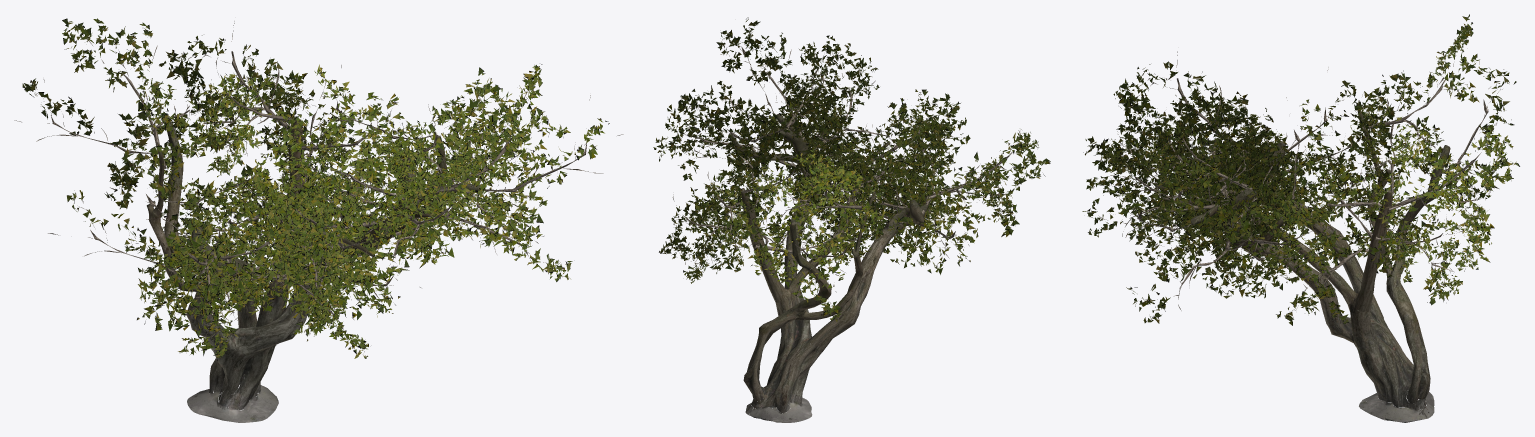
Rendered from island_tree_02.glb.
The picture shows the model from 3 angles, left to right: view 1: azimuth 30°, elevation 25°; view 2: azimuth 150°, elevation 25°; view 3: azimuth 270°, elevation 25°; orthographic projection. The views are drawn at different scales.
Parts seen in each view (by area): view 1: leaves, island_tree_02_LOD0; view 2: leaves, island_tree_02_LOD0; view 3: leaves, island_tree_02_LOD0.
Boxes of the visible parts, x1,y1,x2,y2 form: leaves: (22,18,609,360); island_tree_02_LOD0: (14,21,623,422); leaves: (653,17,1050,321); island_tree_02_LOD0: (662,27,1031,422); leaves: (1082,14,1519,325); island_tree_02_LOD0: (1087,30,1504,422).
Size of the model in its own units: 4.16 by 3.41 by 4.05.
3 materials, 3 textured.
